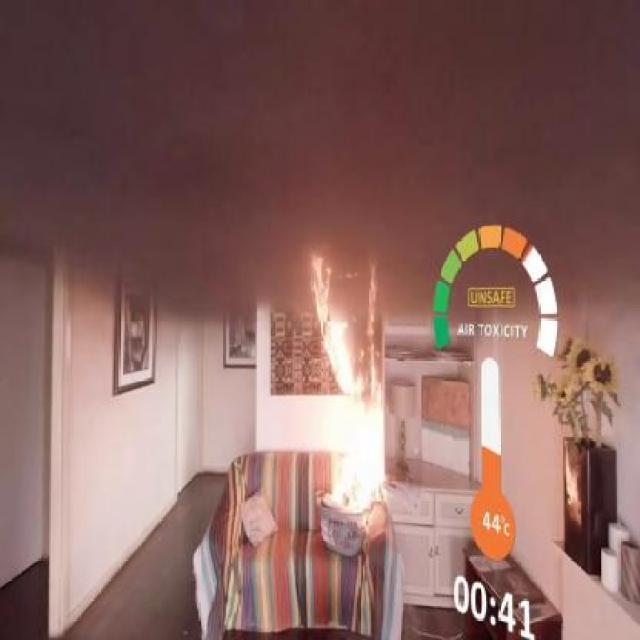fire: (308, 254, 387, 546)
smoke: (118, 29, 538, 218)
